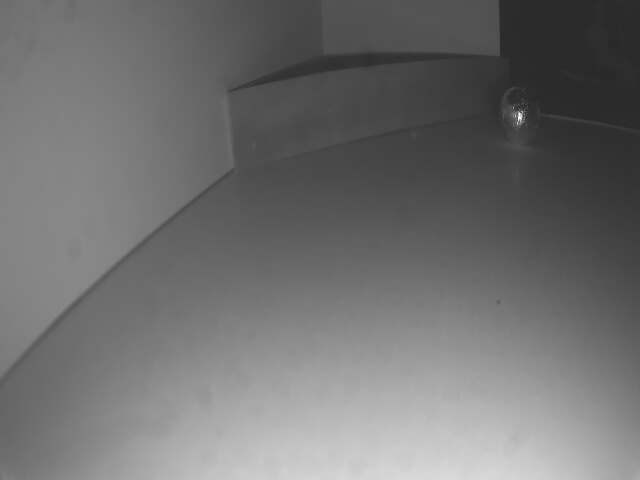Green: (226, 59, 510, 172)
Live: (500, 86, 540, 146)
